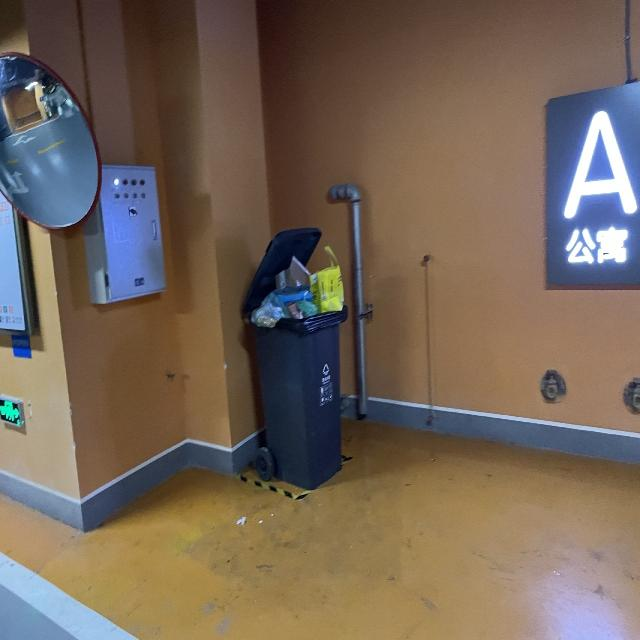overflow: (242, 225, 348, 490)
